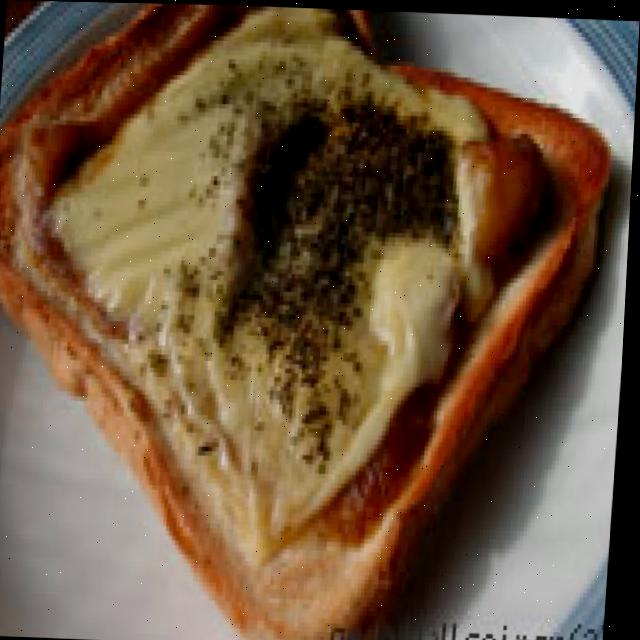面包点心: (0, 0, 625, 620)
